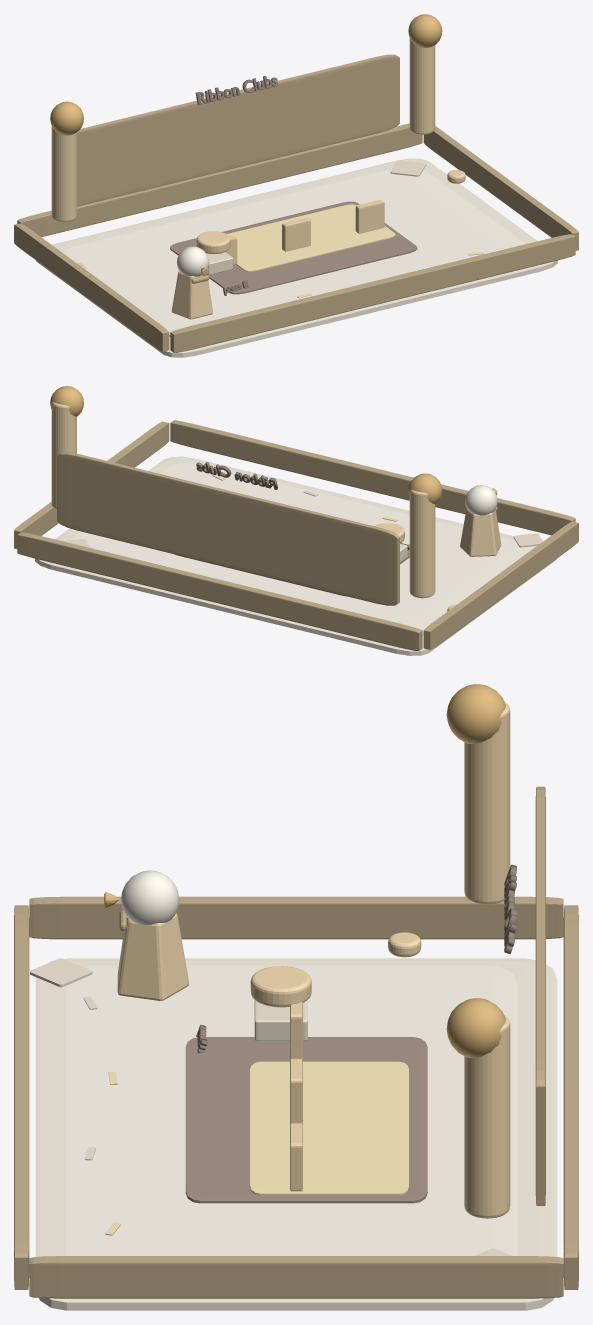
Rendered from 02_groups.glb.
3 views of the same model, one above another, from view 1: azimuth 30°, elevation 25°; view 2: azimuth 150°, elevation 25°; view 3: azimuth 270°, elevation 25° (orthographic). The views are drawn at different scales.
Visible parts, largest first — view 1: BackCard, FloorLayerInset, SouthRail-col, NorthRail-col, PaperFloor-col, StageMatHighlight, StageMat, WestRail-col, EastRail-col, PaperLantern.001, FpeRushPlayer, PaperLantern (+8 smaller); view 2: BackCard, FloorLayerInset, NorthRail-col, SouthRail-col, PaperFloor-col, WestRail-col, PaperLantern, FpeRushPlayer, EastRail-col, PaperLantern.001, TitleLabel, LanternGlow.001 (+1 smaller); view 3: FloorLayerInset, PaperFloor-col, EastRail-col, StageMatHighlight, WestRail-col, StageMat, PaperLantern.001, PaperLantern, FpeRushPlayer, NorthRail-col, SouthRail-col, BackCard (+8 smaller).
Boxes of the visible parts, box(x1,y1,x2,y2) form: BackCard: box(77, 54, 399, 206); FloorLayerInset: box(62, 168, 525, 336); SouthRail-col: box(170, 234, 575, 352); NorthRail-col: box(17, 123, 422, 236); PaperFloor-col: box(36, 158, 557, 357); StageMatHighlight: box(227, 204, 395, 271); StageMat: box(170, 201, 417, 294); WestRail-col: box(14, 223, 169, 351); EastRail-col: box(423, 126, 578, 250); PaperLantern.001: box(409, 38, 435, 134); FpeRushPlayer: box(171, 246, 212, 319); PaperLantern: box(51, 126, 76, 222); BackCard: box(57, 452, 399, 605); FloorLayerInset: box(70, 462, 533, 634); NorthRail-col: box(17, 532, 422, 650); SouthRail-col: box(170, 420, 575, 535); PaperFloor-col: box(35, 456, 556, 655); WestRail-col: box(423, 521, 578, 649); PaperLantern: box(409, 489, 435, 598); FpeRushPlayer: box(460, 485, 501, 556); EastRail-col: box(14, 421, 169, 548); PaperLantern.001: box(51, 402, 76, 509); TitleLabel: box(196, 462, 277, 489); LanternGlow.001: box(50, 386, 83, 416); FloorLayerInset: box(65, 965, 517, 1255); PaperFloor-col: box(35, 958, 557, 1310); EastRail-col: box(29, 1256, 563, 1298); StageMatHighlight: box(250, 1061, 408, 1195); WestRail-col: box(29, 896, 563, 939); StageMat: box(185, 1037, 427, 1203); PaperLantern.001: box(464, 1016, 510, 1218); PaperLantern: box(464, 702, 510, 904); FpeRushPlayer: box(104, 870, 189, 1000); NorthRail-col: box(563, 905, 578, 1289); SouthRail-col: box(14, 905, 29, 1289); BackCard: box(535, 786, 545, 1205).
Bounding box in the file's own units: 6.8 × 2.56 × 4.44.
